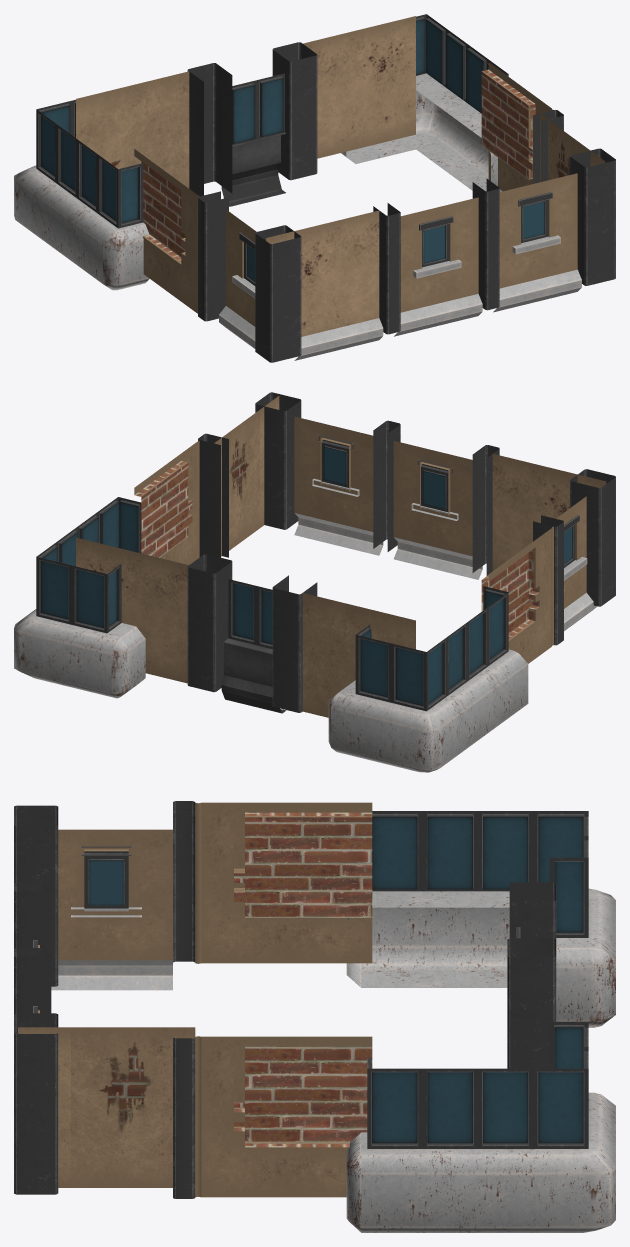
File: TrimSheetC1_Middle01.fbx
3 renders of one model, top to bottom at view 1: azimuth 30°, elevation 25°; view 2: azimuth 150°, elevation 25°; view 3: azimuth 270°, elevation 25°, orthographic. The views are drawn at different scales.
Visible parts, largest first — view 1: TrimSheetC1_MIddle01; view 2: TrimSheetC1_MIddle01; view 3: TrimSheetC1_MIddle01.
Part boxes in pixels (x1,y1,x2,y2): TrimSheetC1_MIddle01: [14, 14, 615, 362]; TrimSheetC1_MIddle01: [14, 392, 615, 772]; TrimSheetC1_MIddle01: [14, 801, 615, 1232].
Bounding box in the file's own units: 1500 × 450 × 1359.
Materials: 1 (1 with a texture image).
